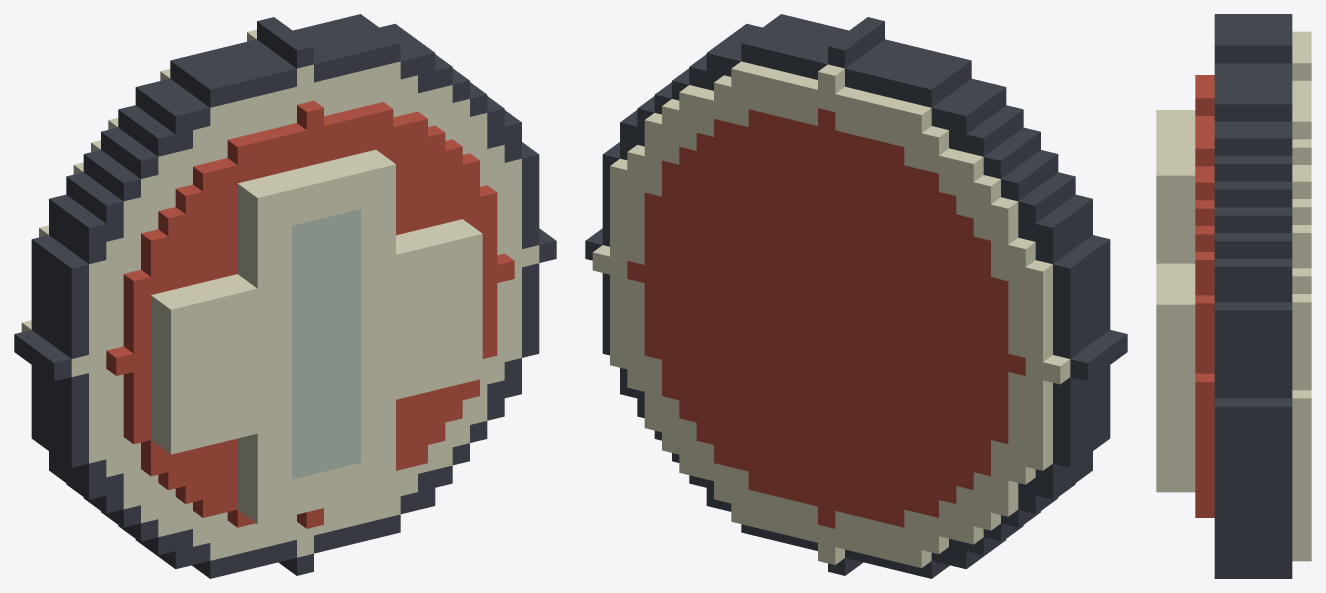
The model's file is voxel_32_20074.glb.
The picture shows the model from 3 angles, left to right: view 1: azimuth 30°, elevation 25°; view 2: azimuth 150°, elevation 25°; view 3: azimuth 270°, elevation 25°; orthographic projection. The views are drawn at different scales.
Visible parts, largest first — view 1: prop_20074; view 2: prop_20074; view 3: prop_20074.
Part boxes in pixels (x1,y1,x2,y2): prop_20074: (14,14,556,578); prop_20074: (585,14,1127,578); prop_20074: (1156,14,1311,578).
Size of the model in its own units: 0.7522 by 0.7522 by 0.2075.
